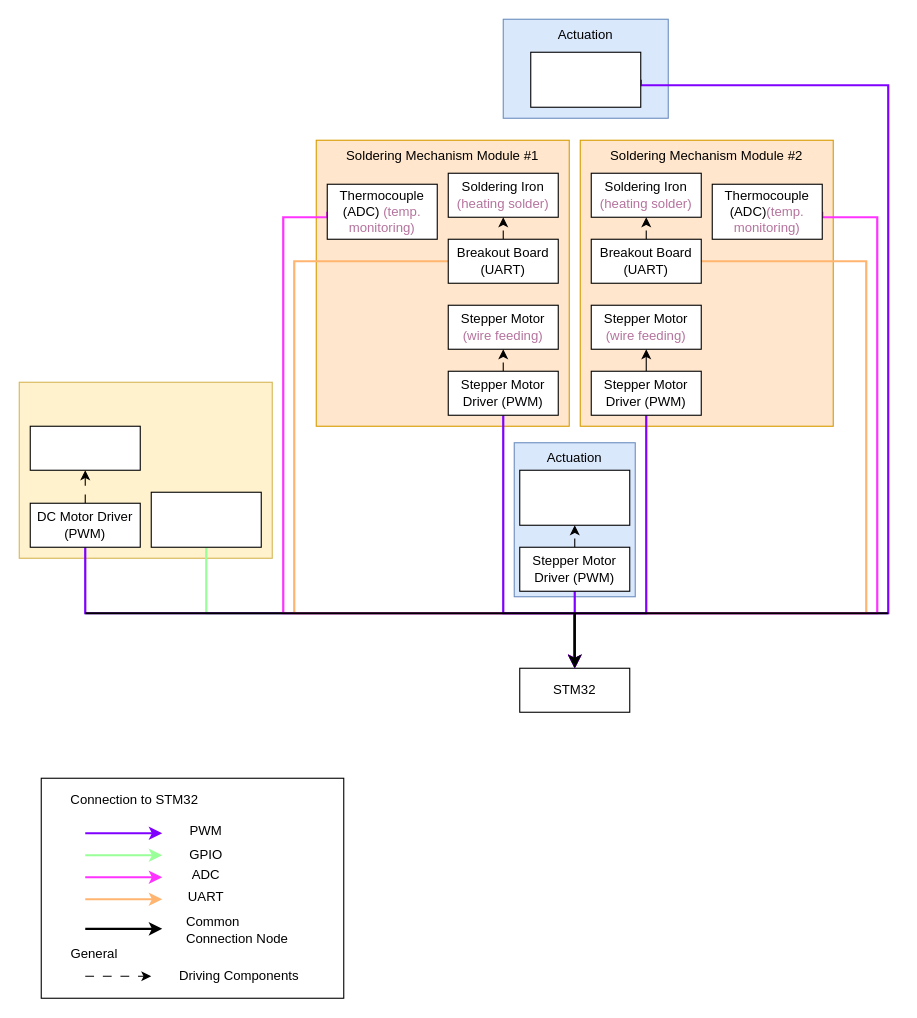
The diagram is 917 pixels wide and 1018 high, and some of its shapes have lost their labels. The box of each missing label's shape, as (x1, y1, x2, y2) in pixels:
Centrifuge General Control: (18, 381, 272, 558)
DC Motor (spins centrifuge): (29, 425, 140, 470)
IR Sensor (GPIO) (centrifuge speed monitoring): (150, 491, 261, 547)
Servo Motor (PWM) (pushes irons in & out): (530, 51, 641, 107)
Stepper Motor (spins soldering iron mechanism): (519, 469, 630, 525)
